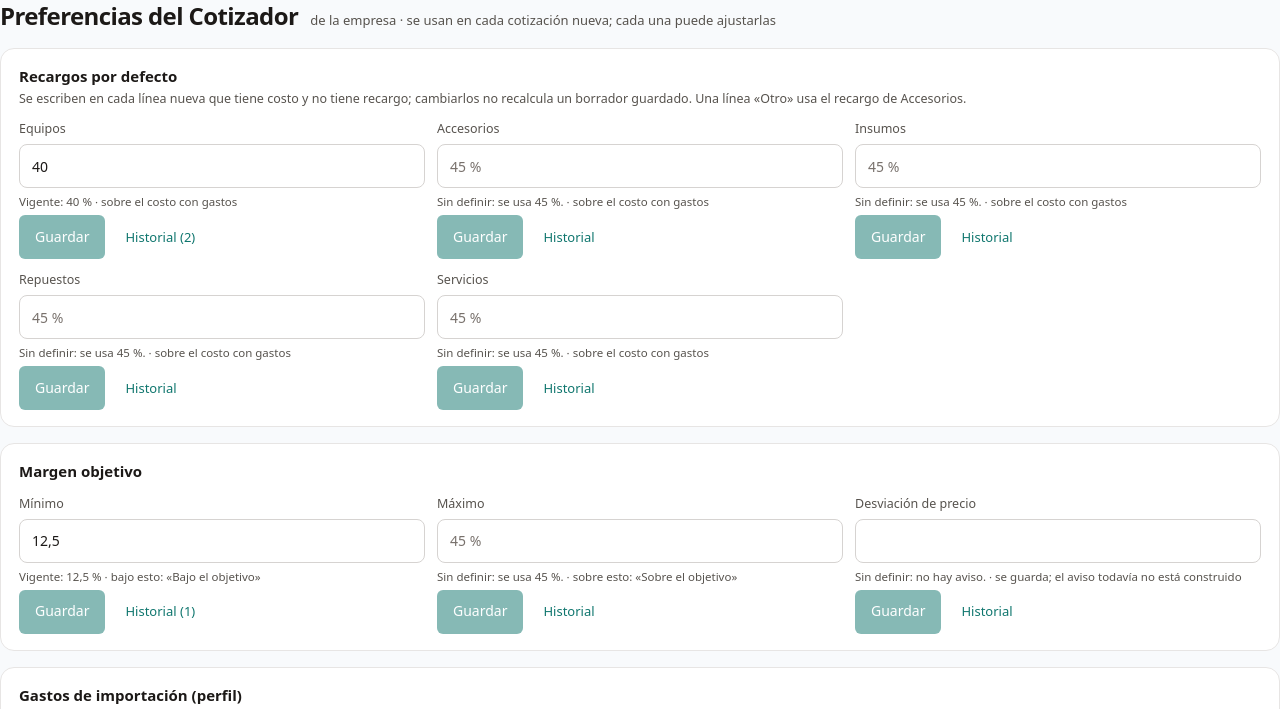
Test: PreferencesPage — saving › requires a reason of at least 3 characters, then sends the row seen as expected_current_id
Replace the text in the field labelled "Equipos" with "42,5": (222, 166) [19,144,425,188]
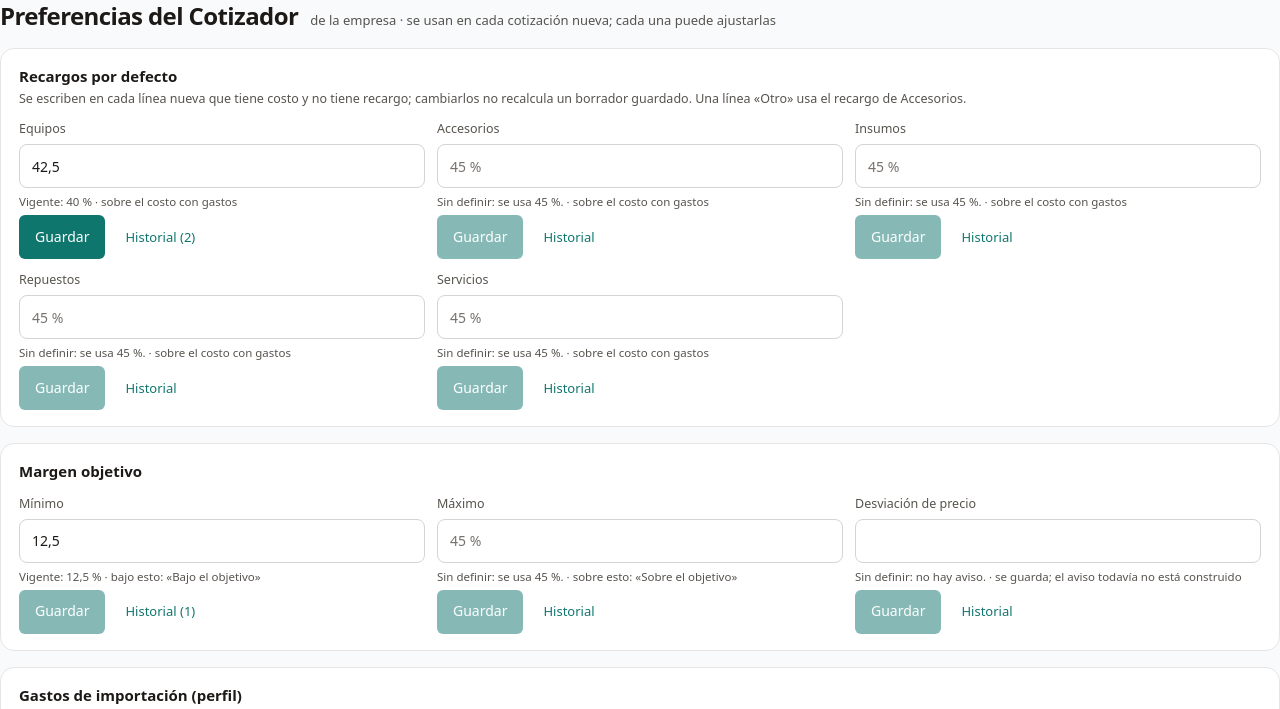
Click the button with aria-label "Guardar Equipos": (62, 237) [19,215,106,259]
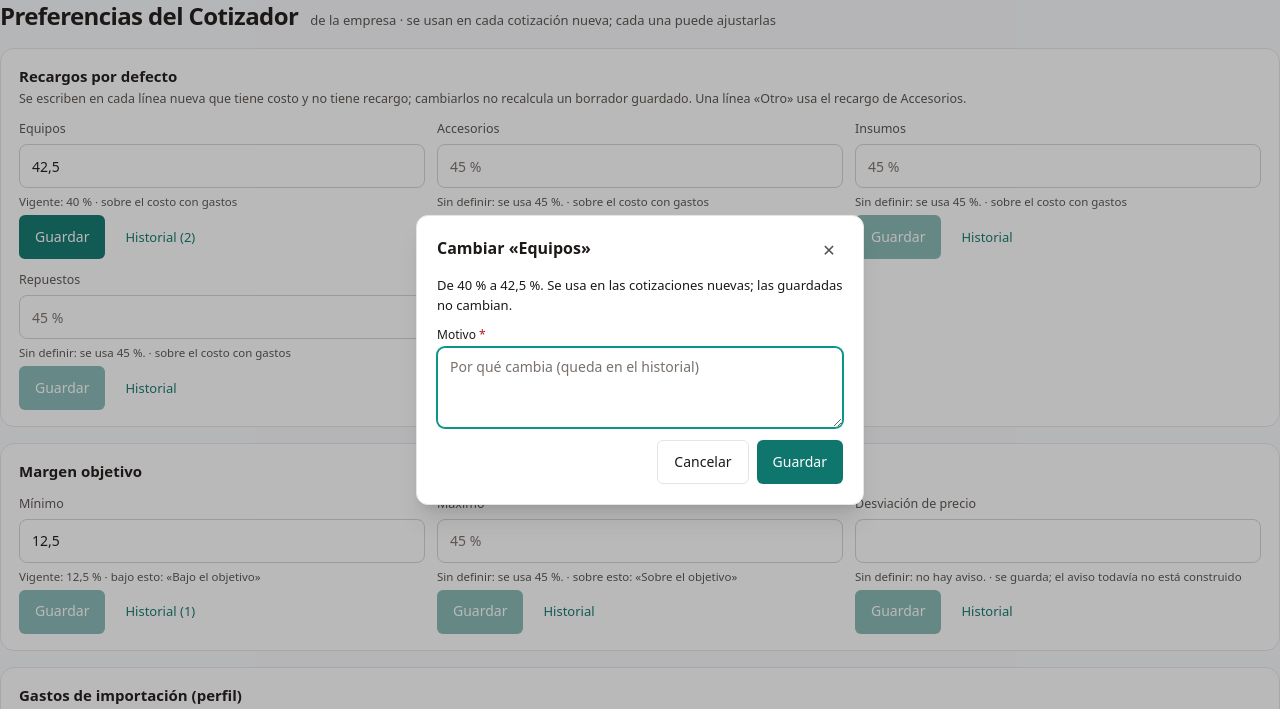
Now the text "De 40 % a 42,5 %" is shown, box [437,276,544,294]
In the text box labelled "Motivo *": (640, 388) [437,347,843,428], type "ab"
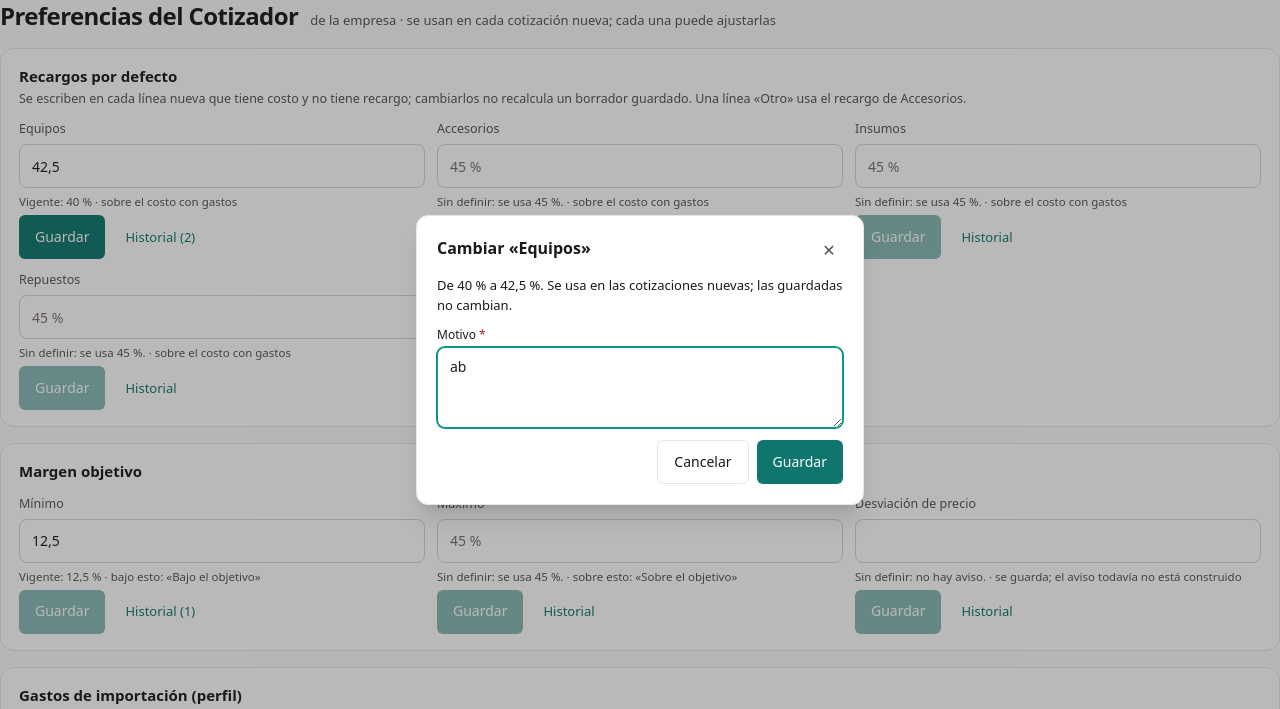
Click the button "Guardar": (800, 462) [756,440,843,484]
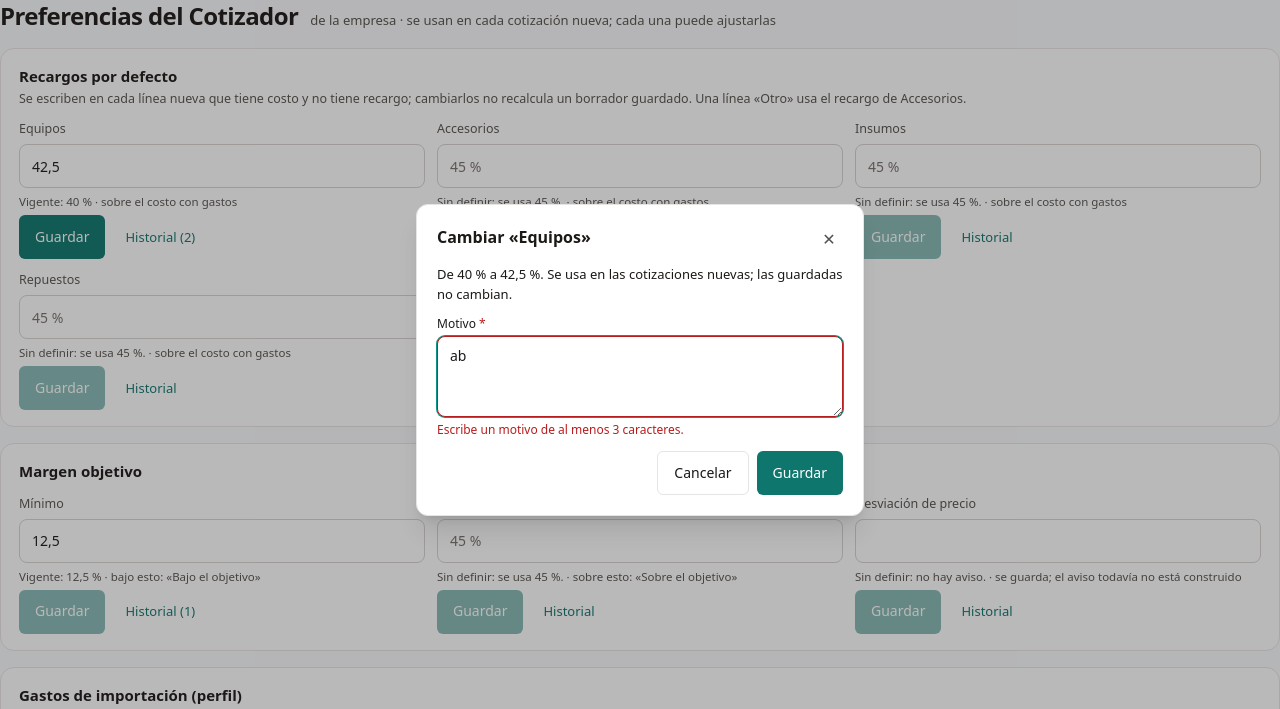
Now the message shows "al menos 3 caracteres", box [437,421,684,438]
Replace the text in the text box labelled "Motivo *" with "  Ajuste de prueba  ": (640, 376) [437,336,843,417]
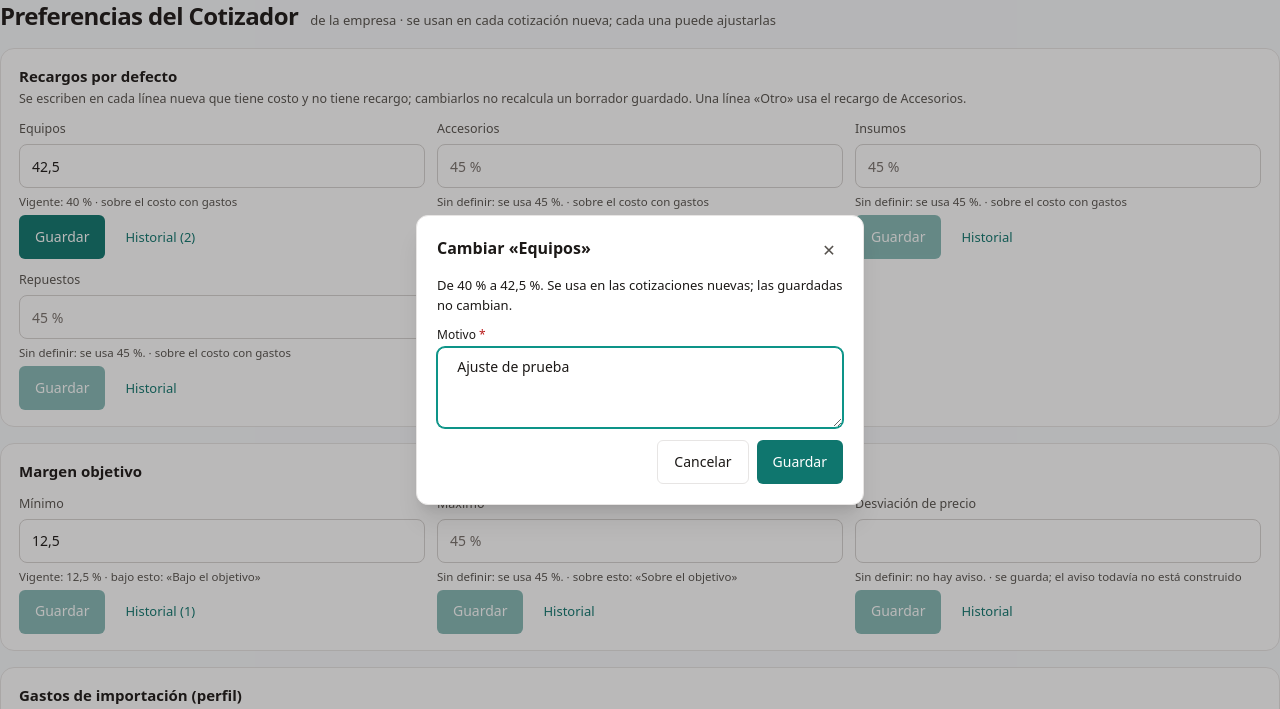
Click the button "Guardar": (800, 462) [756,440,843,484]
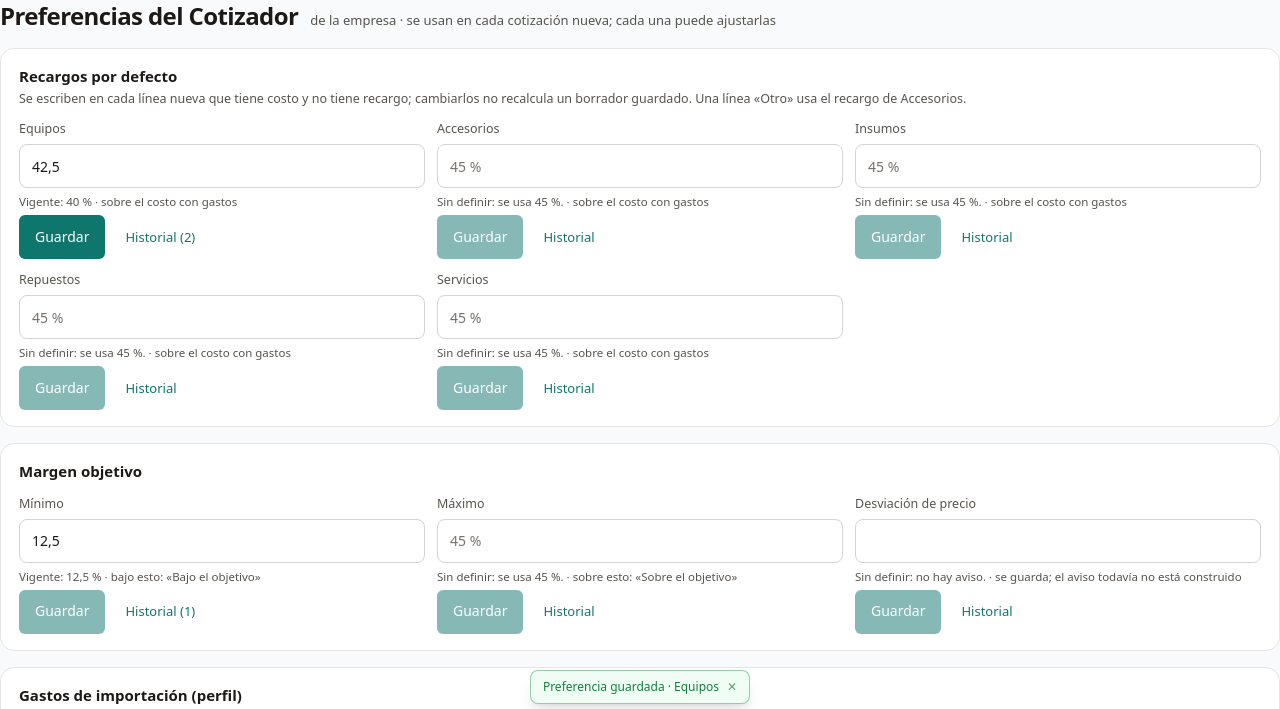
Now the dialog is gone
Now the text "Preferencia guardada · Equipos" is shown, box [543,679,719,695]
